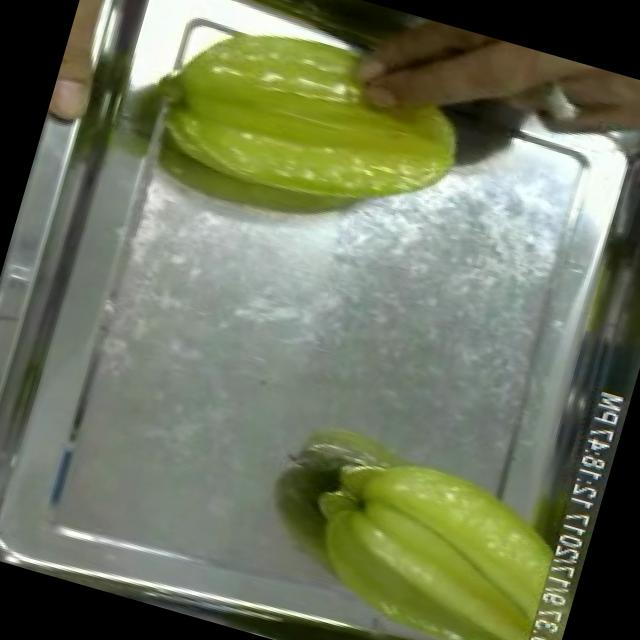fruit: (130, 0, 491, 250), (275, 425, 572, 640)
